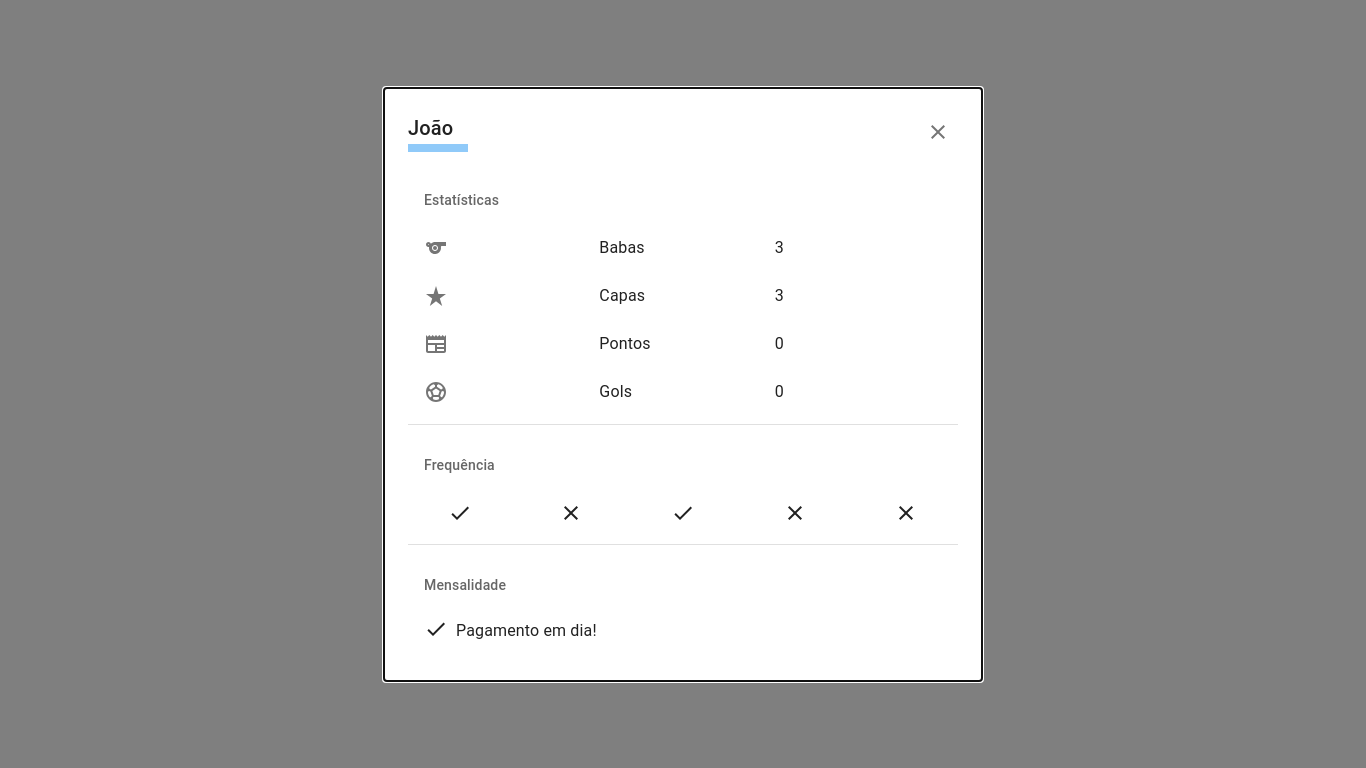
it: <MemberStatsModal /> › <Payments /> › should render all member payments
The image size is (1366, 768).
Step 1. Click the button "Pagamento em dia!" → (510, 628), box [424,616,597,640]
(page scrolled)
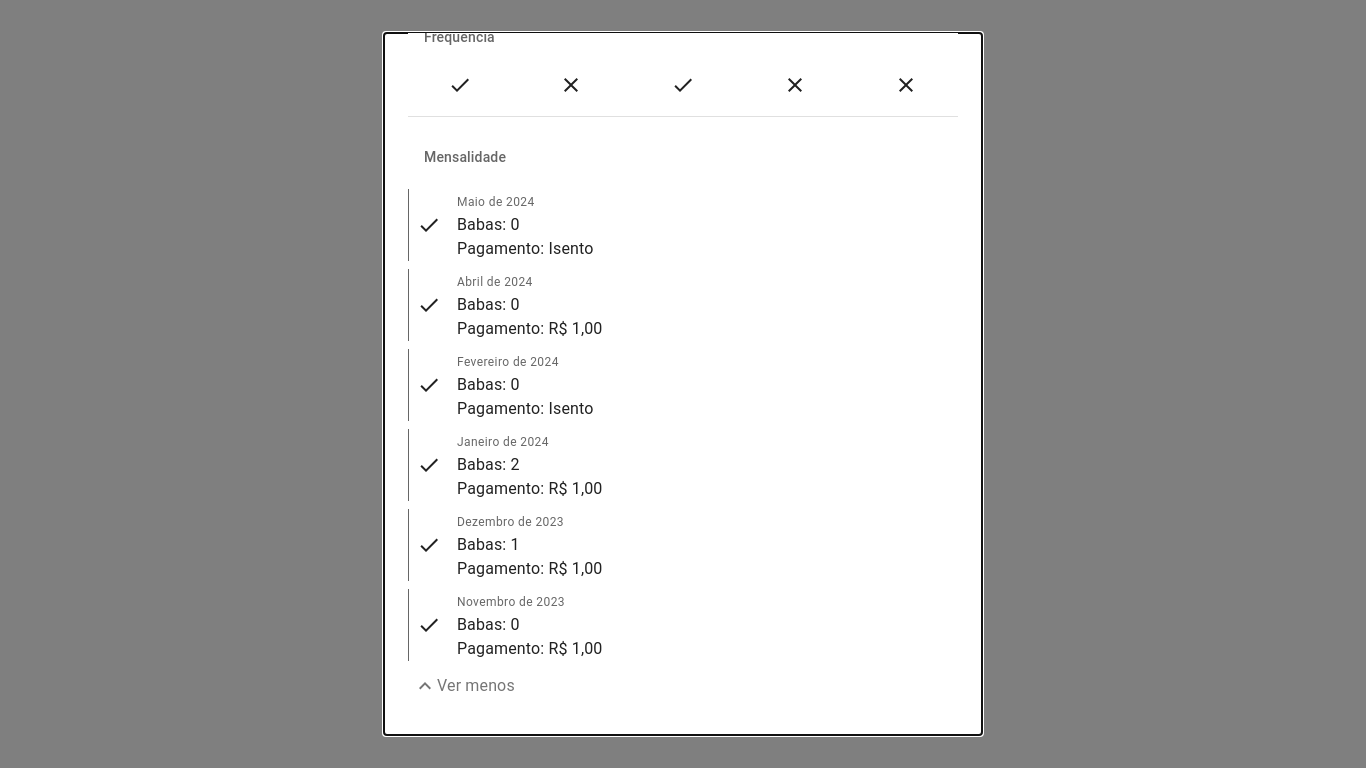
Expected: the number of list items with test id "payment-item" is 6, [408,189,958,261]; [408,269,958,341]; [408,349,958,421]; [408,429,958,501]; [408,509,958,581]; [408,589,958,661]
Expected: the text "Maio de 2024" is shown, [457,195,535,209]
Expected: the text "Babas: 0" below "Maio de 2024" is shown, [457,215,520,234]
